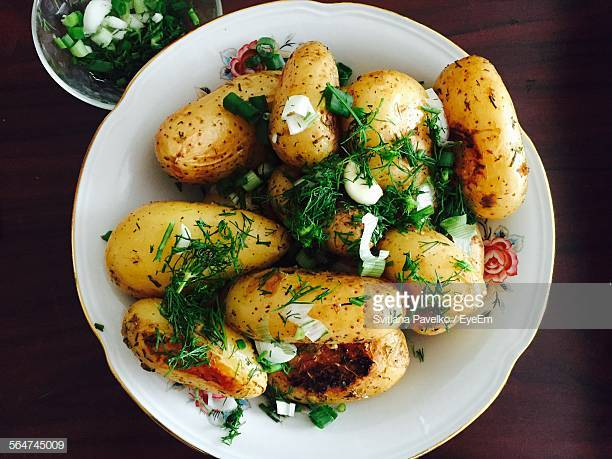boiled potatoes: (114, 202, 321, 387), (153, 66, 358, 144)
